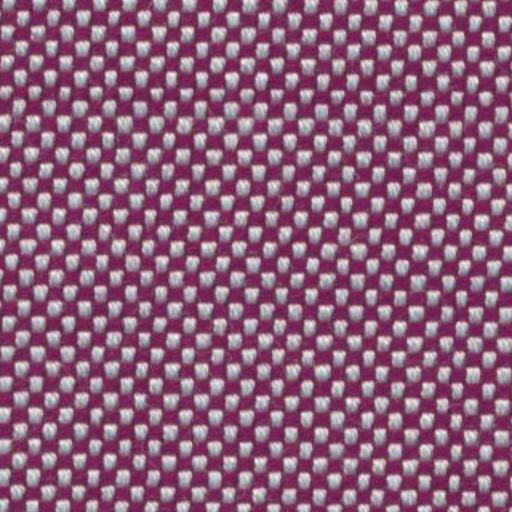TuoSha: (18, 66, 505, 146)
